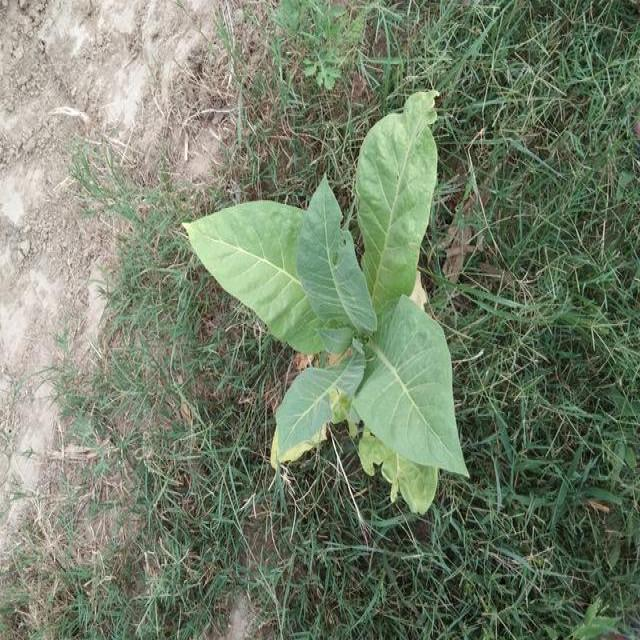crop: (177, 76, 476, 515)
